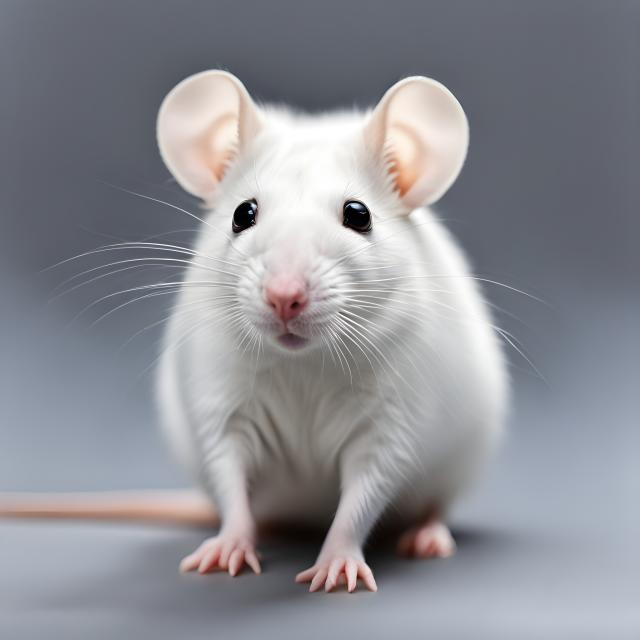rodents: (136, 52, 534, 592)
